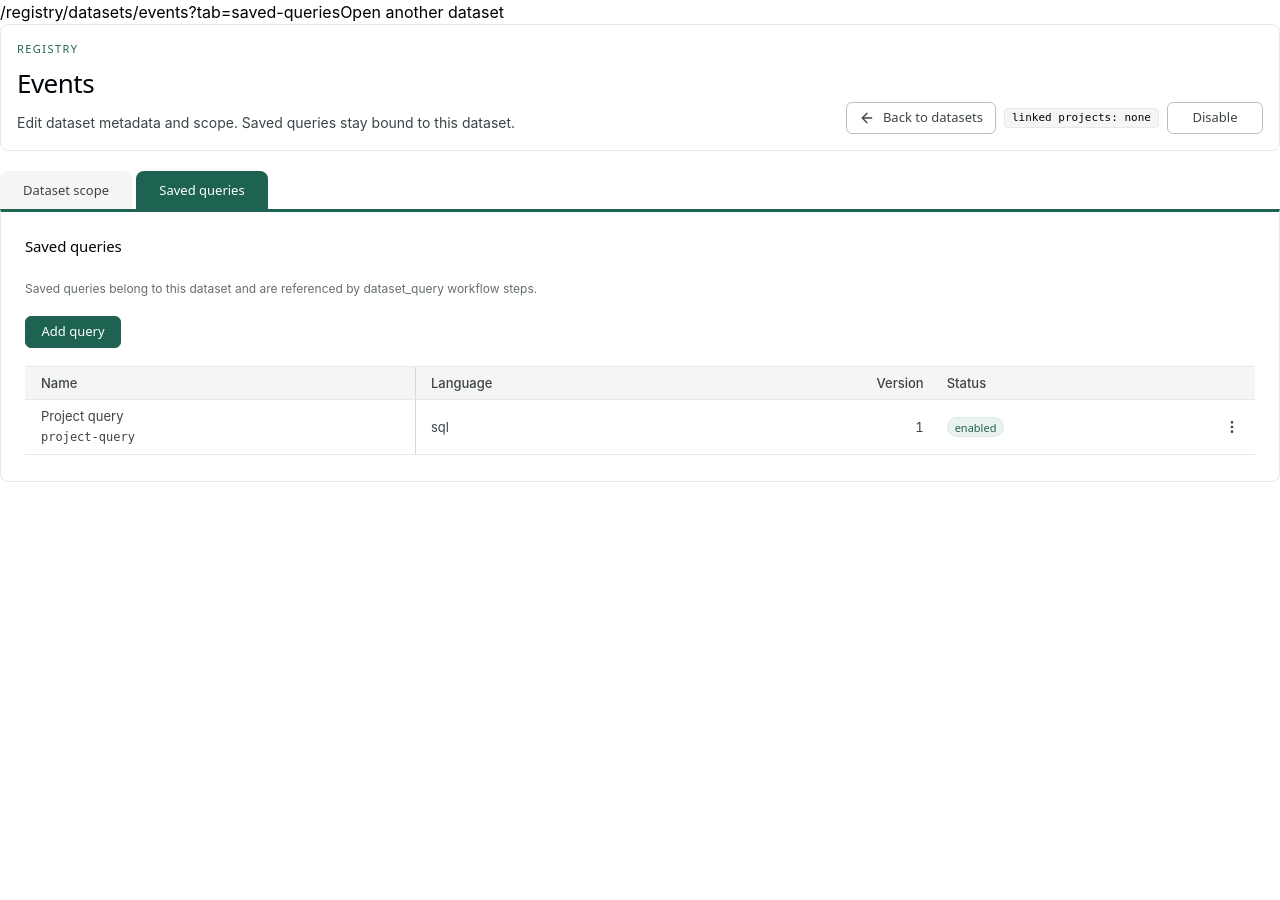
RegistryDatasetsDetailPage saved queries › does not run a project-scoped query when the assigned project catalog is unassigned
This screenshot has width=1280, height=900.
Expected: the text "Project query" is shown, [41,408,124,424]
Click the button named "Actions for Project query" at coordinates (1232, 427), box [1216,411,1248,443]
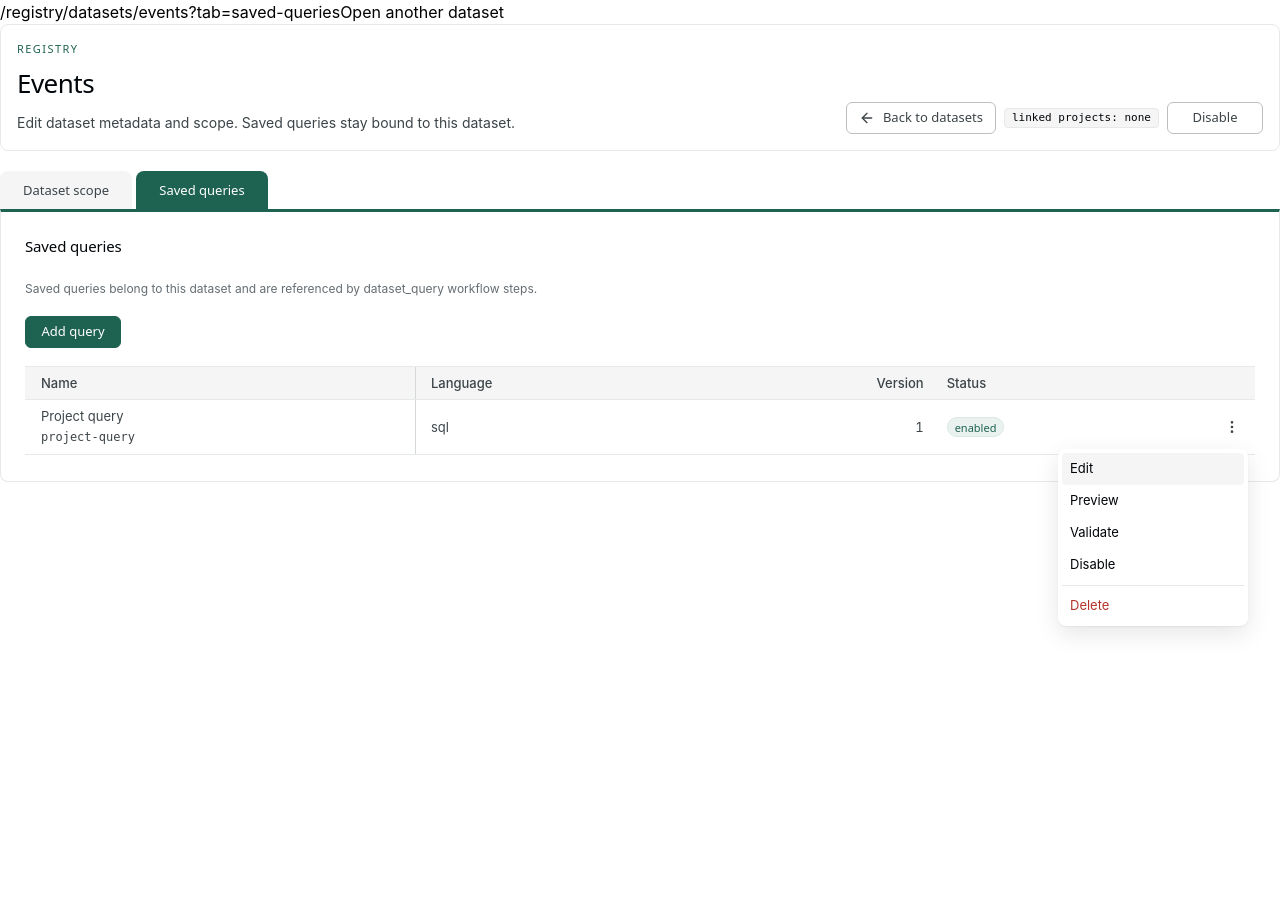
Click the menu item "Preview" at coordinates (1153, 501), box [1062,485,1244,517]
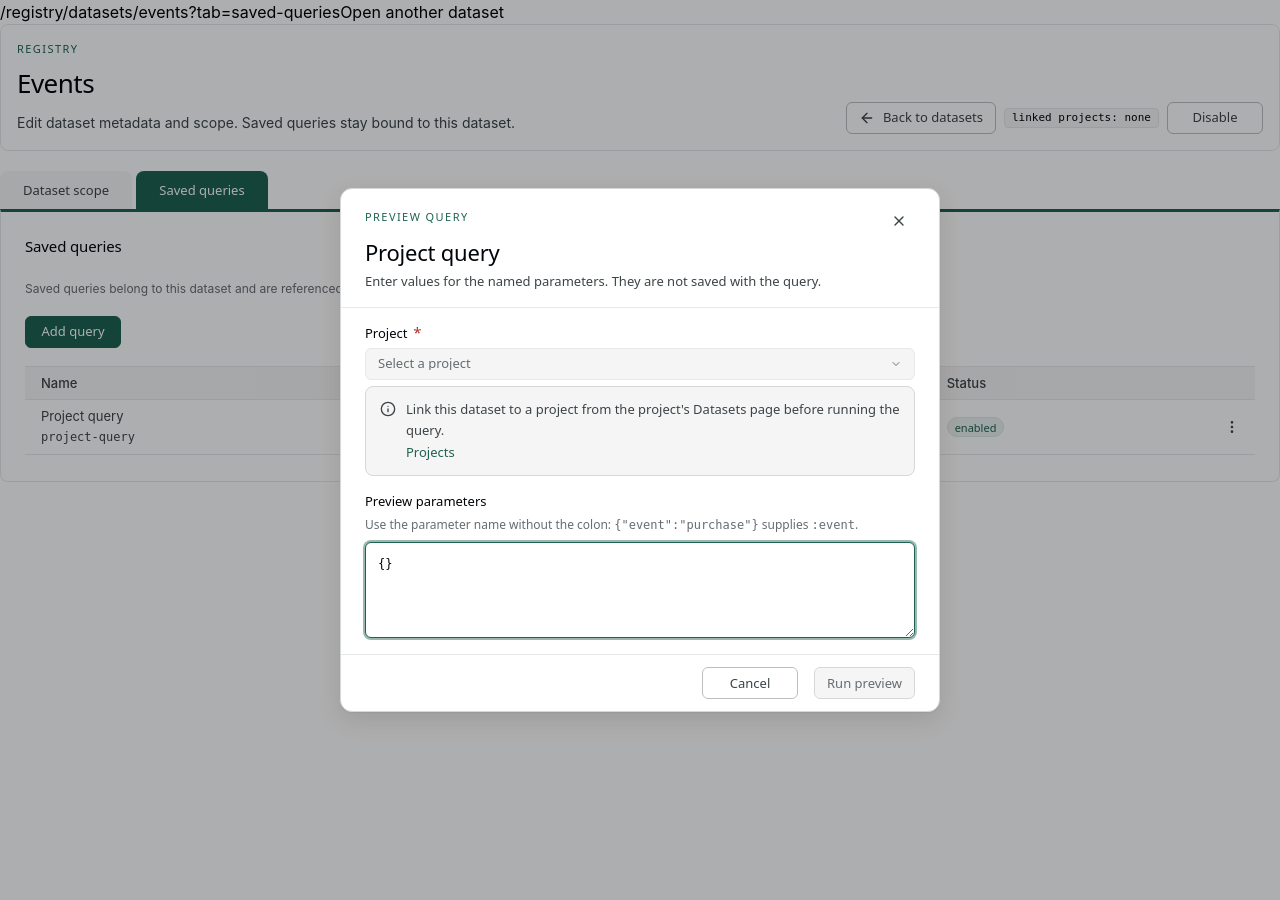
Expected: the dropdown labelled "project" is disabled, [365,348,915,380]
Expected: the button "Run preview" is disabled, [814,667,915,699]
Expected: the text "Link this dataset to a project from the project's Datasets page before running the query." is shown, [406,400,900,439]
